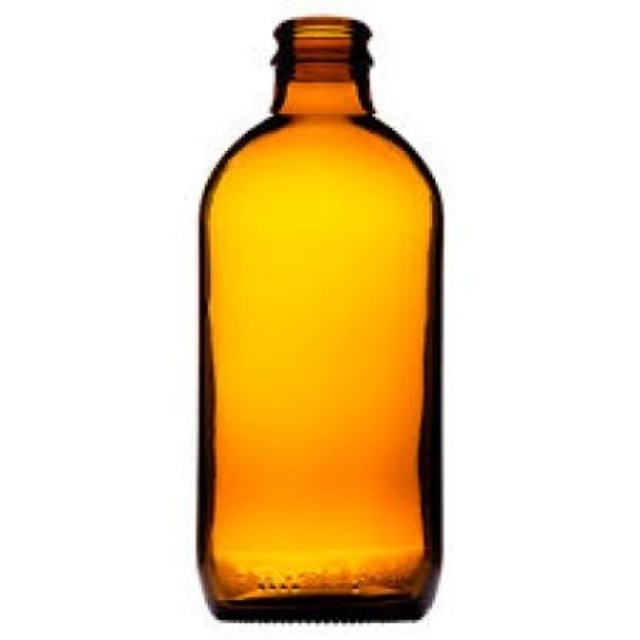trash: (198, 17, 442, 618)
